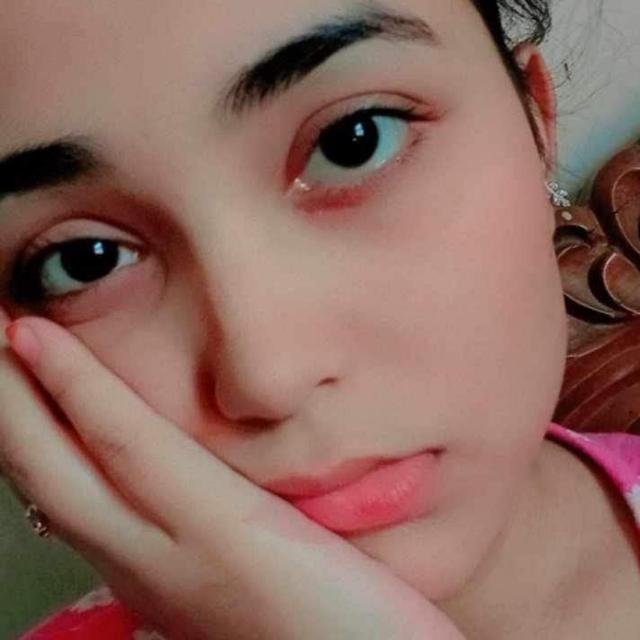Sad: (6, 31, 597, 617)
